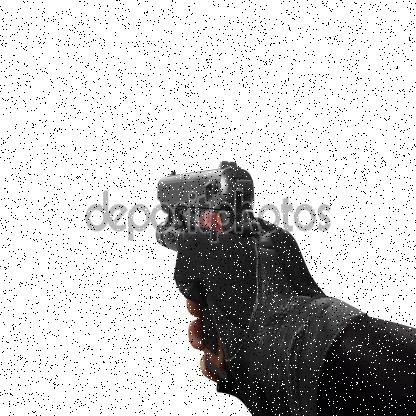pistol: (157, 160, 254, 382)
